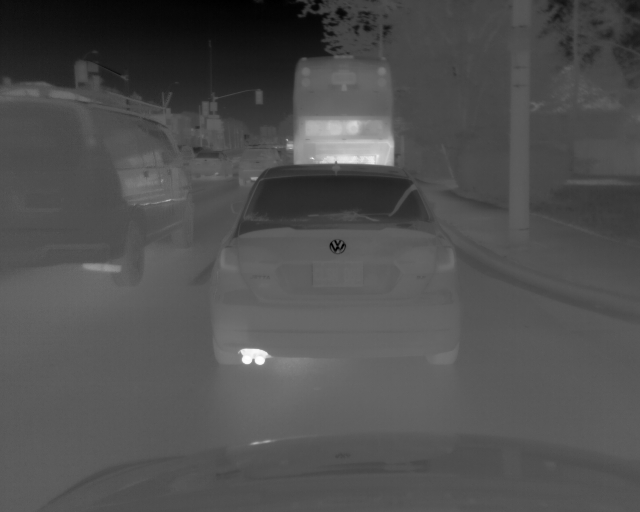car: (214, 164, 465, 369), (1, 97, 196, 285), (291, 55, 394, 166), (236, 146, 280, 190), (189, 150, 233, 182), (283, 135, 294, 152)
